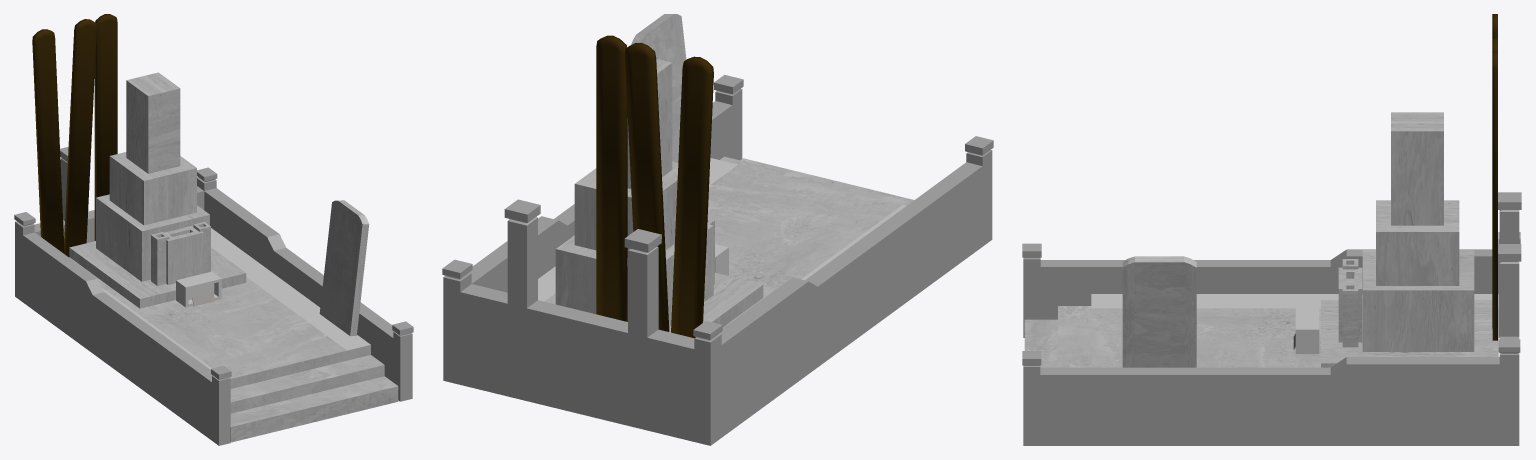
Rendered from groby3.fbx.
3 views of the same model, side by side, from view 1: azimuth 30°, elevation 25°; view 2: azimuth 150°, elevation 25°; view 3: azimuth 270°, elevation 25° (orthographic). The views are drawn at different scales.
Parts seen in each view (by area): view 1: Cube.016, Cube.011, Cube.012, Cube.028, Cube.026, Cube.022, Cube.027, Cube.014, Cube.013; view 2: Cube.016, Cube.011, Cube.012, Cube.026, Cube.027, Cube.028, Cube.022; view 3: Cube.016, Cube.012, Cube.011, Cube.022, Cube.014, Cube.027, Cube.013.
Boxes of the visible parts, x1,y1,x2,y2 form: Cube.016: (14,146,413,445); Cube.011: (69,228,398,442); Cube.012: (69,72,246,308); Cube.028: (64,19,96,256); Cube.026: (32,29,64,253); Cube.022: (319,200,369,336); Cube.027: (94,14,117,240); Cube.014: (151,222,210,285); Cube.013: (176,271,221,307); Cube.016: (442,74,993,445); Cube.011: (538,156,914,327); Cube.012: (544,58,763,332); Cube.026: (671,56,713,338); Cube.027: (596,35,627,321); Cube.028: (625,42,669,331); Cube.022: (631,14,686,162); Cube.016: (1022,192,1521,445); Cube.012: (1321,112,1492,367); Cube.011: (1024,294,1498,367); Cube.022: (1122,256,1196,367); Cube.014: (1338,259,1362,347); Cube.027: (1492,51,1497,340); Cube.013: (1295,308,1319,353).
Bounding box in the file's own units: 940 × 1240 × 1716.
